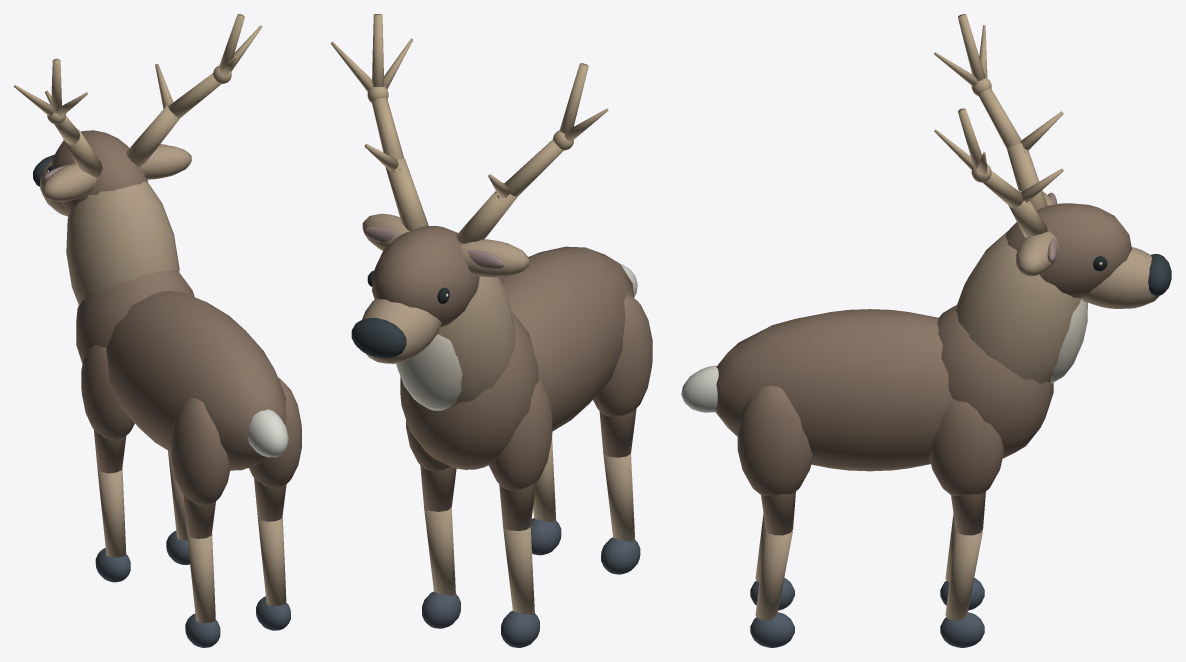
The model's file is reindeer-high.glb.
The picture shows the model from 3 angles, left to right: view 1: azimuth 30°, elevation 25°; view 2: azimuth 150°, elevation 25°; view 3: azimuth 270°, elevation 25°; orthographic projection. The views are drawn at different scales.
Visible parts, largest first — view 1: reindeer-high; view 2: reindeer-high; view 3: reindeer-high.
Boxes of the visible parts, x1,y1,x2,y2 form: reindeer-high: [14, 14, 301, 647]; reindeer-high: [330, 14, 652, 647]; reindeer-high: [681, 14, 1171, 647].
Size of the model in its own units: 1.17 by 2.4 by 1.88.
